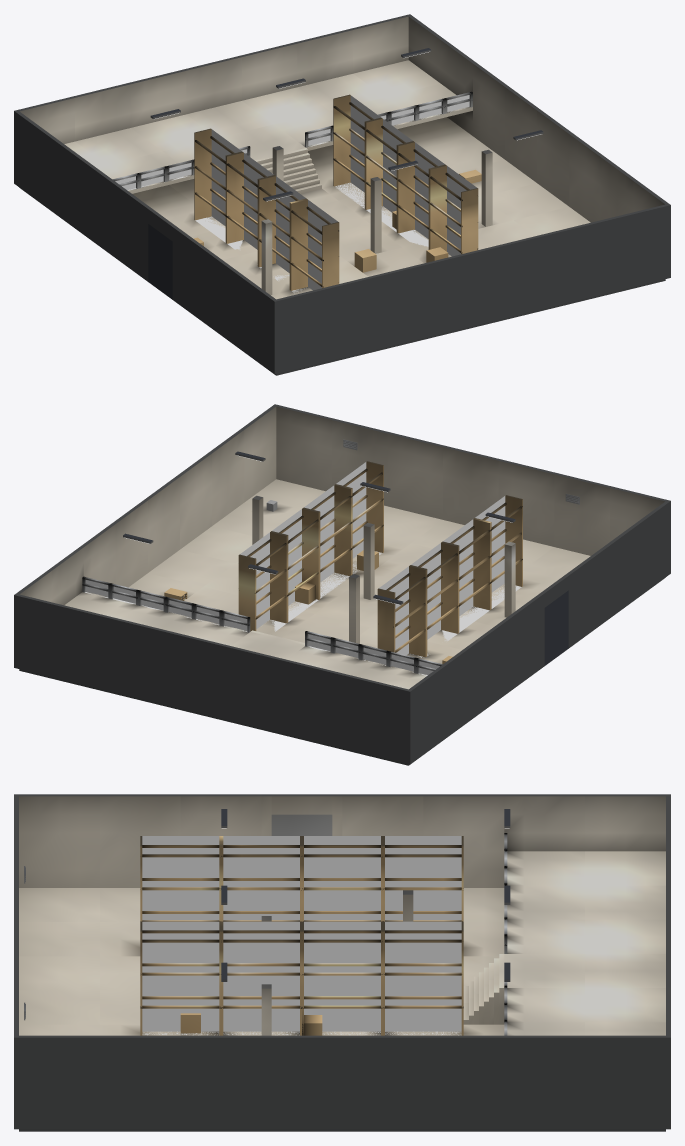
The model's file is zone_d_reserve.glb.
The picture shows the model from 3 angles, top to bottom: view 1: azimuth 30°, elevation 25°; view 2: azimuth 150°, elevation 25°; view 3: azimuth 270°, elevation 25°; orthographic projection. The views are drawn at different scales.
Visible parts, largest first — view 1: kit_wall_4m.002, kit_wall_4m.005, kit_wall_4m.003, kit_wall_4m, kit_wall_4m.006, kit_wall_4m.001, kit_wall_4m.004, kit_rack_4m, kit_rack_4m.004, kit_wall_4m.010, kit_wall_4m.008, kit_wall_4m.013 (+64 smaller); view 2: kit_wall_4m.011, kit_wall_4m.008, kit_wall_4m.010, kit_wall_4m.007, kit_wall_4m.013, kit_wall_4m.012, kit_wall_4m.009, kit_wall_4m.002, kit_wall_4m, kit_wall_4m.005, kit_wall_4m.003, kit_wall_4m.004 (+63 smaller); view 3: kit_wall_4m.023, kit_wall_4m.024, kit_wall_4m.026, kit_wall_4m.025, col_box_rack_4m.007, kit_wall_4m.021, kit_wall_4m.022, kit_wall_4m.027, kit_wall_4m.028, kit_wall_4m.014, col_box_rack_4m.004, col_box_rack_4m.006 (+50 smaller).
Part boxes in pixels (<box>): kit_wall_4m.002: <box>499,231,556,319</box>; kit_wall_4m.005: <box>332,272,389,359</box>; kit_wall_4m.003: <box>443,245,500,332</box>; kit_wall_4m: <box>610,204,667,291</box>; kit_wall_4m.006: <box>276,286,333,373</box>; kit_wall_4m.001: <box>554,218,611,305</box>; kit_wall_4m.004: <box>388,259,444,346</box>; kit_rack_4m: <box>290,199,339,290</box>; kit_rack_4m.004: <box>429,165,478,254</box>; kit_wall_4m.010: <box>184,55,241,114</box>; kit_wall_4m.008: <box>73,83,130,141</box>; kit_wall_4m.013: <box>351,15,408,73</box>; kit_wall_4m.011: <box>128,621,185,709</box>; kit_wall_4m.008: <box>295,662,352,749</box>; kit_wall_4m.010: <box>184,635,241,722</box>; kit_wall_4m.007: <box>351,676,408,763</box>; kit_wall_4m.013: <box>17,594,74,681</box>; kit_wall_4m.012: <box>73,608,130,695</box>; kit_wall_4m.009: <box>240,649,296,736</box>; kit_wall_4m.002: <box>387,432,444,519</box>; kit_wall_4m: <box>276,405,333,491</box>; kit_wall_4m.005: <box>554,473,611,555</box>; kit_wall_4m.003: <box>443,445,500,524</box>; kit_wall_4m.004: <box>498,459,555,546</box>; kit_wall_4m.023: <box>423,1035,504,1129</box>; kit_wall_4m.024: <box>342,1035,423,1129</box>; kit_wall_4m.026: <box>180,1035,261,1129</box>; kit_wall_4m.025: <box>261,1035,342,1129</box>; col_box_rack_4m.007: <box>385,921,461,1035</box>; kit_wall_4m.021: <box>585,1035,665,1129</box>; kit_wall_4m.022: <box>504,1035,584,1129</box>; kit_wall_4m.027: <box>100,1035,180,1129</box>; kit_wall_4m.028: <box>19,1035,99,1129</box>; kit_wall_4m.014: <box>19,794,99,887</box>; col_box_rack_4m.004: <box>142,921,219,1035</box>; col_box_rack_4m.006: <box>304,921,380,1035</box>.
Bounding box in the file's own units: 28.5 × 6.9 × 32.5.
